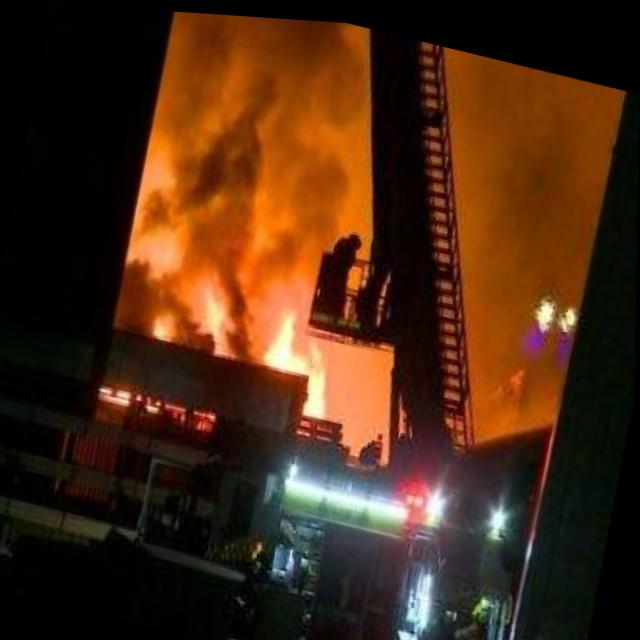fire: (253, 293, 350, 423), (142, 258, 246, 368)
